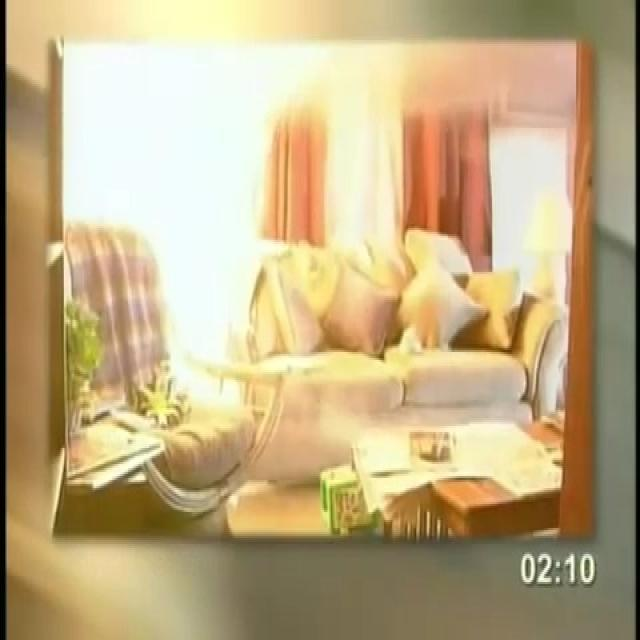Fire: (77, 51, 263, 228)
